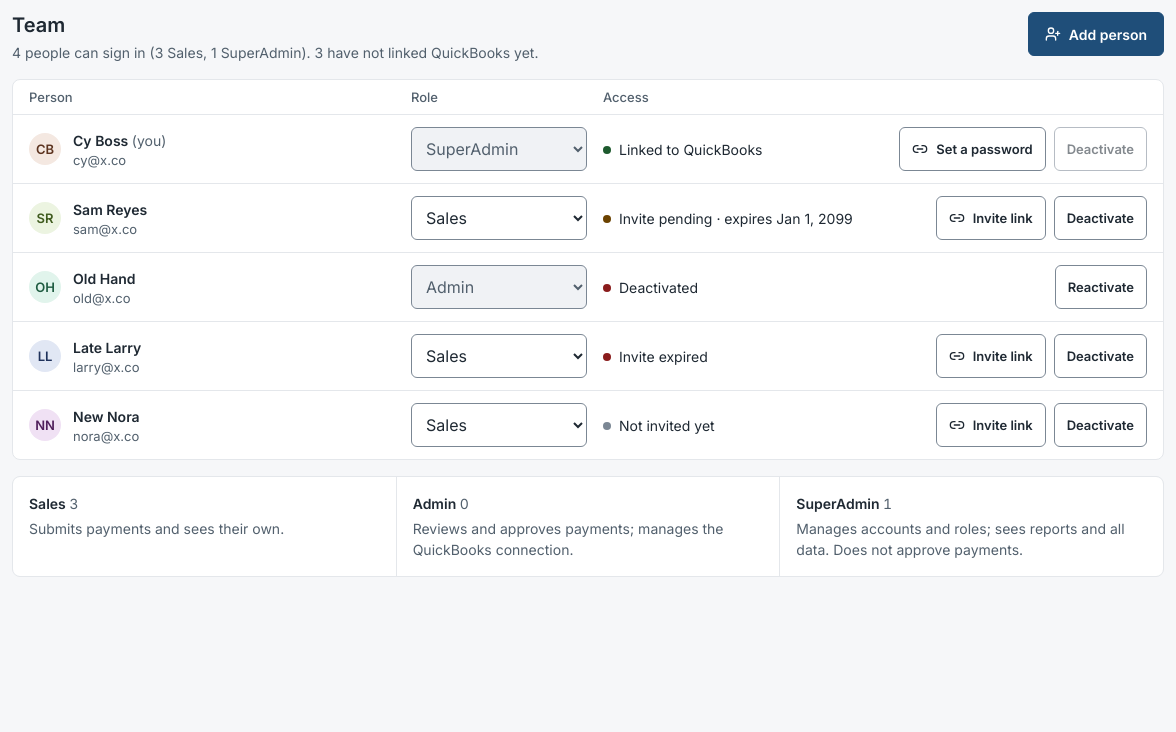
Test: TeamPage › changes a role straight from the list
The width and height of the screenshot is (1176, 732).
Select "Admin" in the dropdown named "Role for Sam Reyes" at coordinates (499, 218), box x1=411 y1=196 x2=587 y2=240
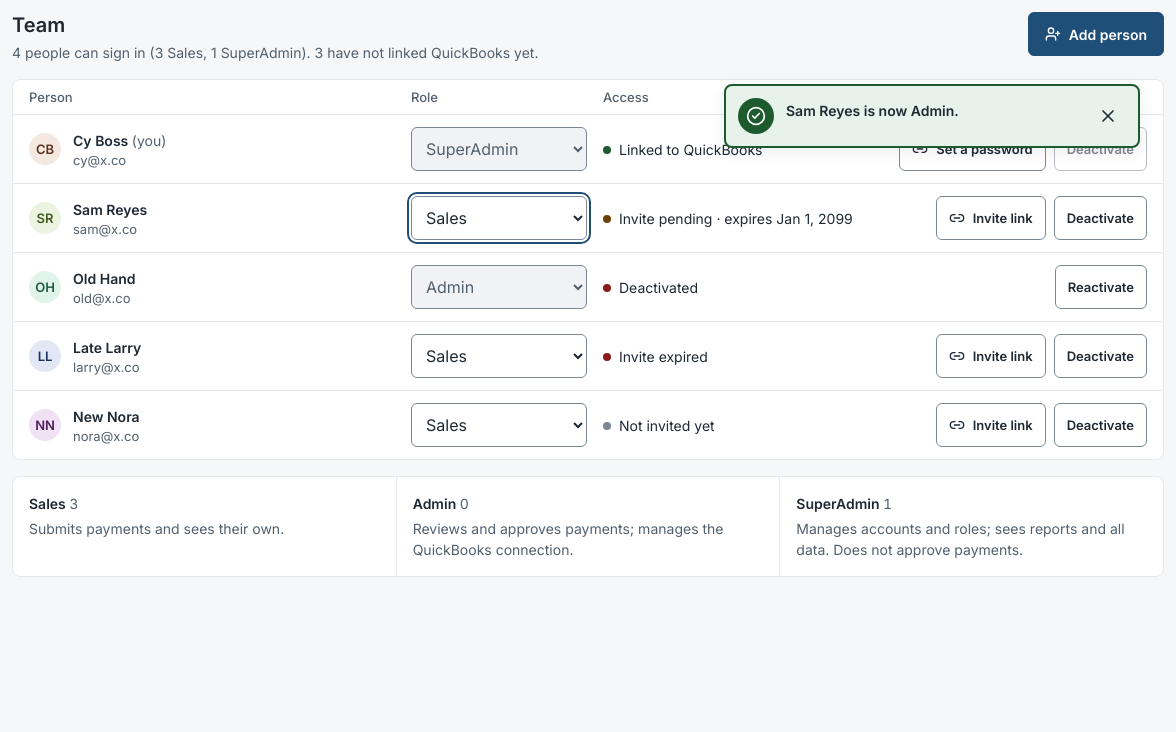
expect the text "Sam Reyes is now Admin." is shown: met, box x1=786 y1=102 x2=959 y2=119
